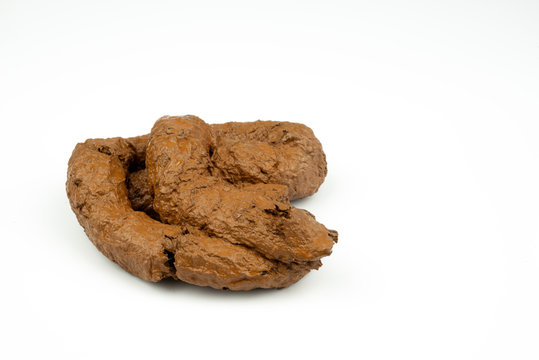Dog: (70, 115, 335, 290)
